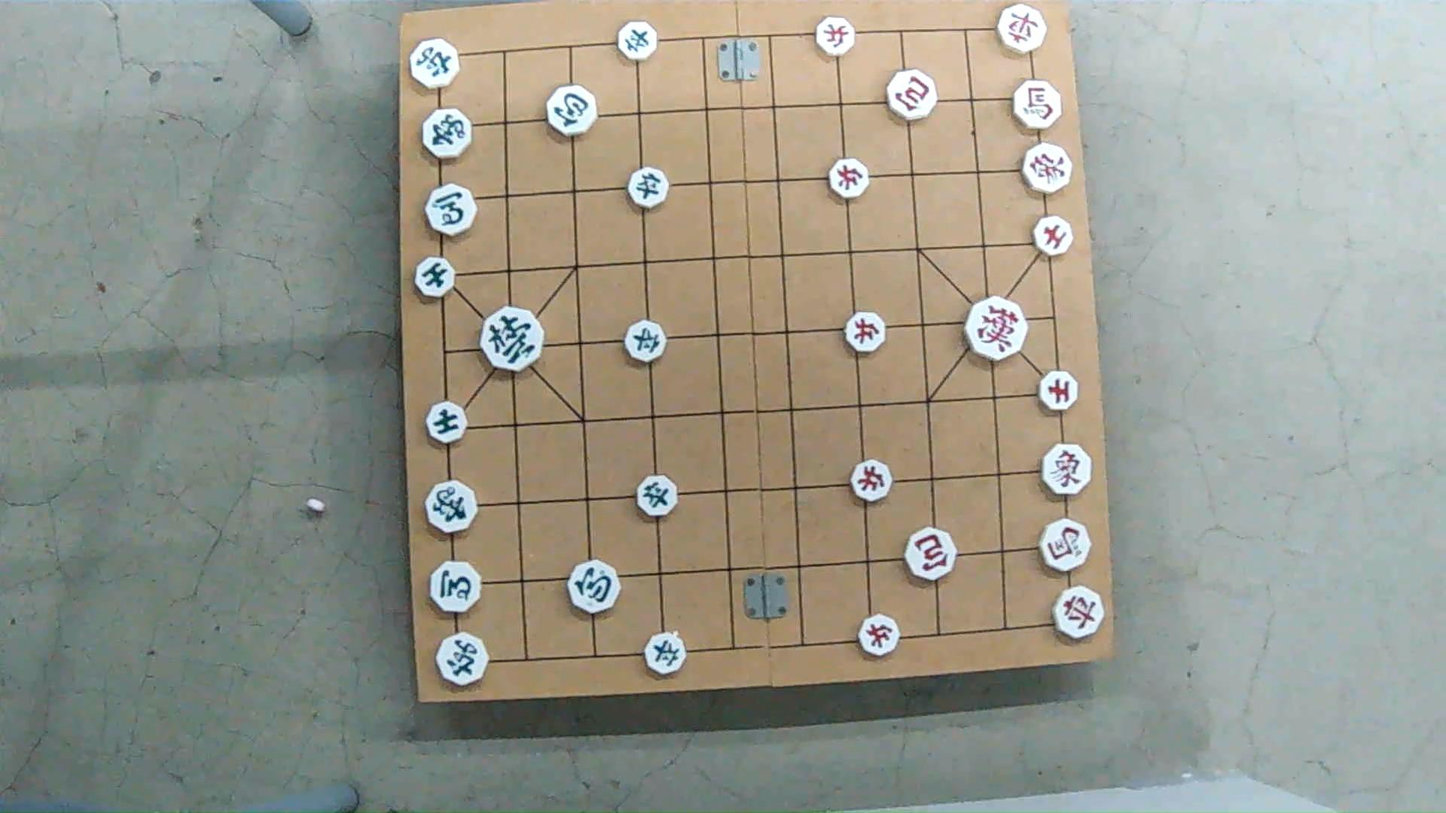cha_green: (438, 632, 488, 690), (409, 39, 462, 89)
cha_red: (1053, 586, 1106, 638), (997, 5, 1048, 50)
jol_green: (642, 635, 685, 676), (627, 169, 669, 209), (624, 321, 666, 361), (634, 478, 676, 517), (617, 23, 660, 61)
jol_red: (852, 460, 895, 499), (858, 617, 900, 656), (846, 313, 888, 352), (828, 159, 871, 197), (812, 20, 854, 58)
ma_green: (426, 559, 484, 614), (424, 186, 477, 234)
ma_red: (1042, 516, 1093, 574), (1012, 81, 1063, 129)
po_green: (569, 564, 621, 612), (544, 86, 595, 134)
po_red: (905, 529, 957, 579), (885, 71, 936, 119)
sa_green: (426, 401, 467, 442), (413, 258, 455, 297)
sa_red: (1037, 372, 1081, 413), (1031, 215, 1075, 254)
sang_green: (425, 483, 478, 531), (423, 108, 473, 157)
sang_red: (1023, 141, 1072, 193), (1042, 446, 1092, 495)
wang_green: (480, 311, 544, 372)
wang_red: (962, 297, 1027, 357)
